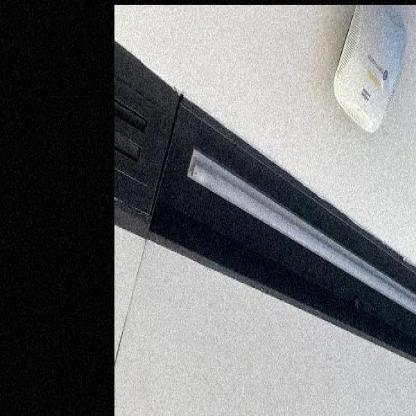light_off: (180, 128, 416, 368)
